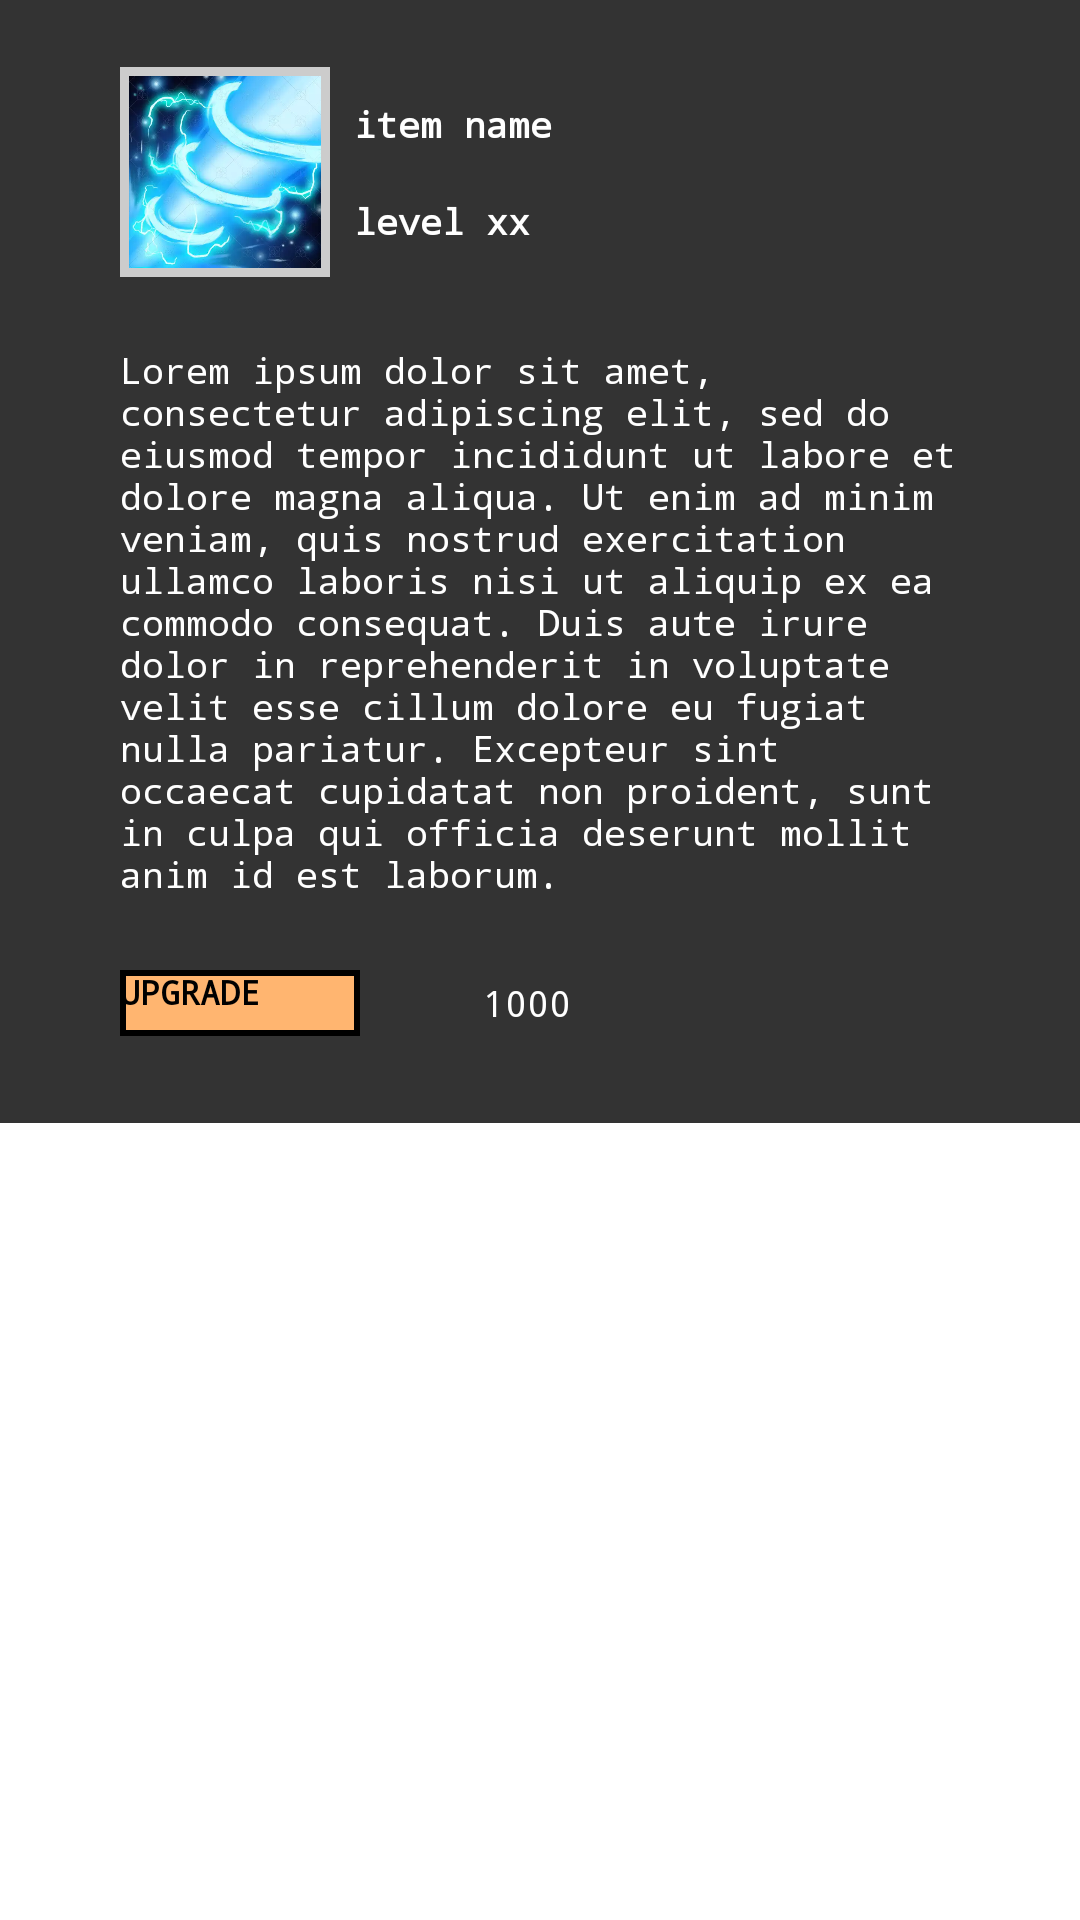

Screen size 1080*1920. Icon name, then its center in pixels as point (x, y):
skill spring laser: point (225, 172)
